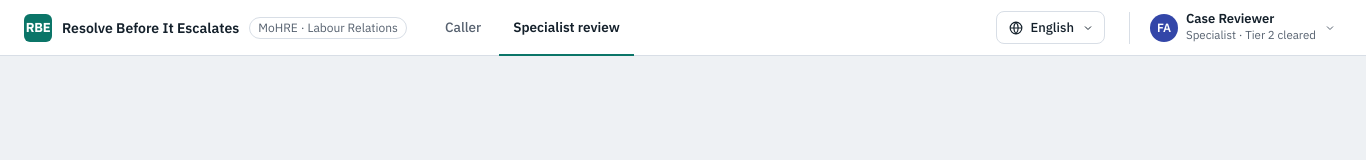
it: TopBar › opens a menu with Sign out inside when the reviewer chip is clicked
The image size is (1366, 160).
What coordinates should you click on to do the following:
click the button with aria-label "reviewer menu"
I would click on:
 (1244, 27)
Its box is [1146, 8, 1342, 47].
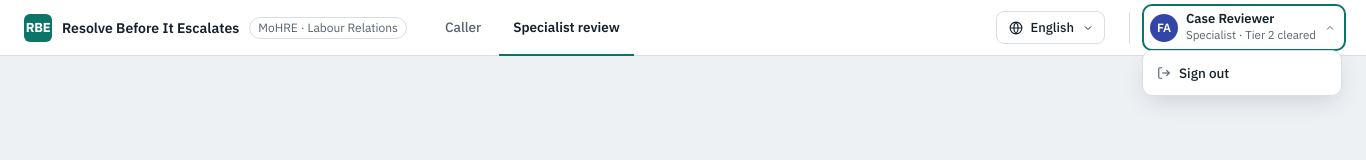
Check: the menu named "reviewer menu" is shown, box [1142, 50, 1342, 96]
Check: the menu item "Sign out" is shown, box [1147, 55, 1337, 91]
